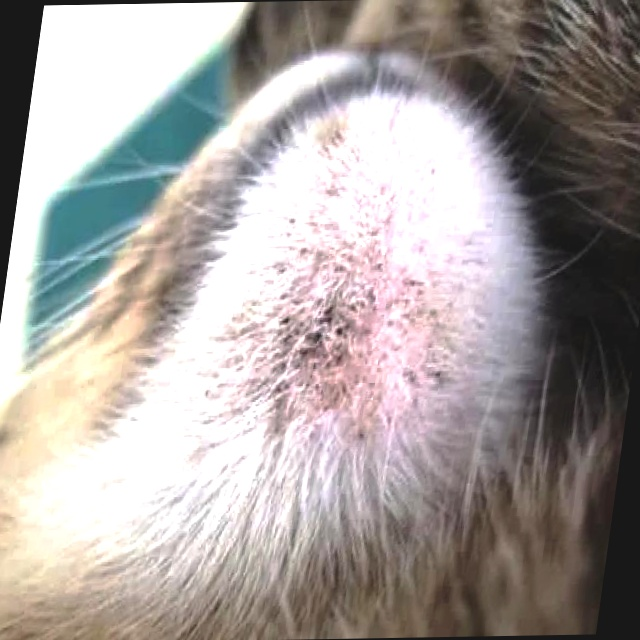acne: (237, 207, 470, 461)
